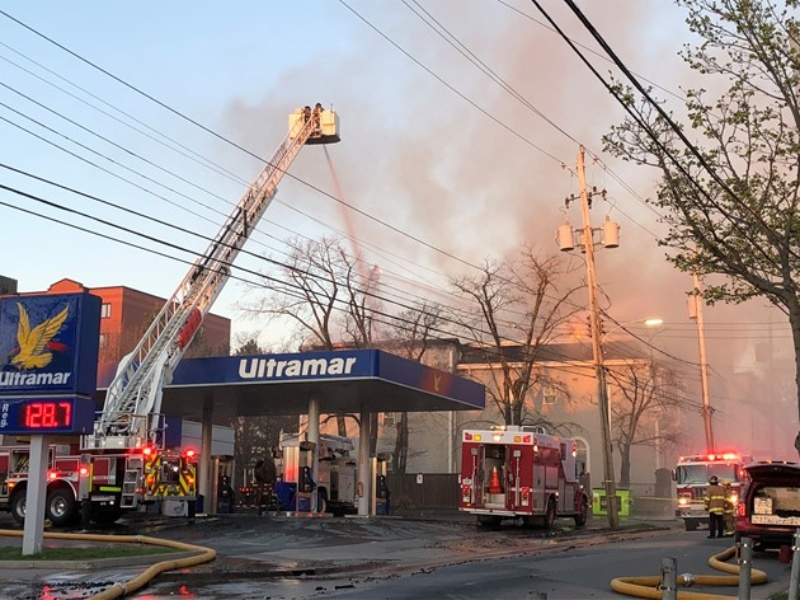smoke: (416, 1, 640, 299)
